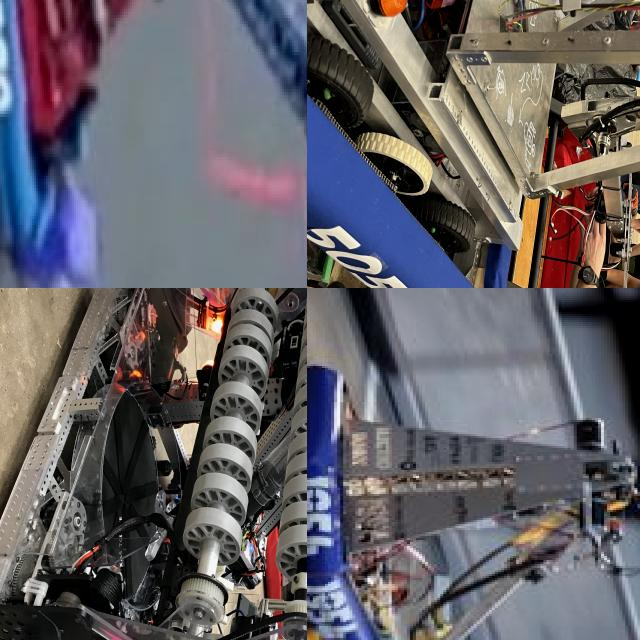FRC-Robots: (0, 288, 307, 640), (307, 345, 640, 640), (307, 0, 640, 288), (0, 0, 307, 288)
